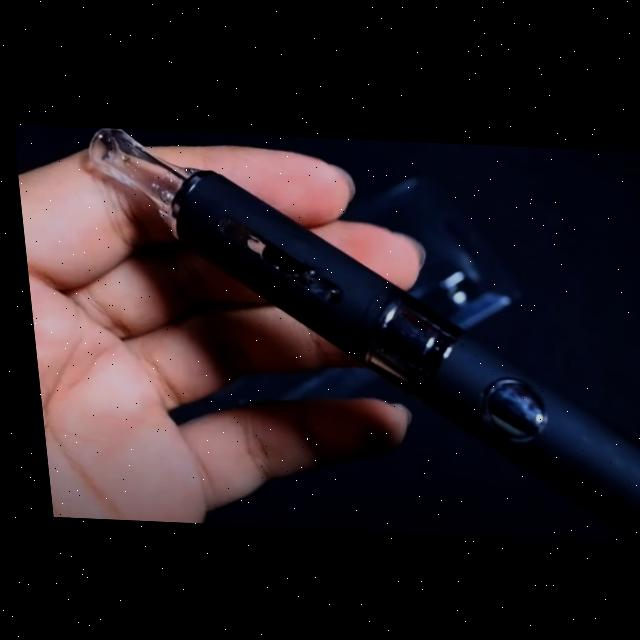vape: (83, 126, 640, 539)
